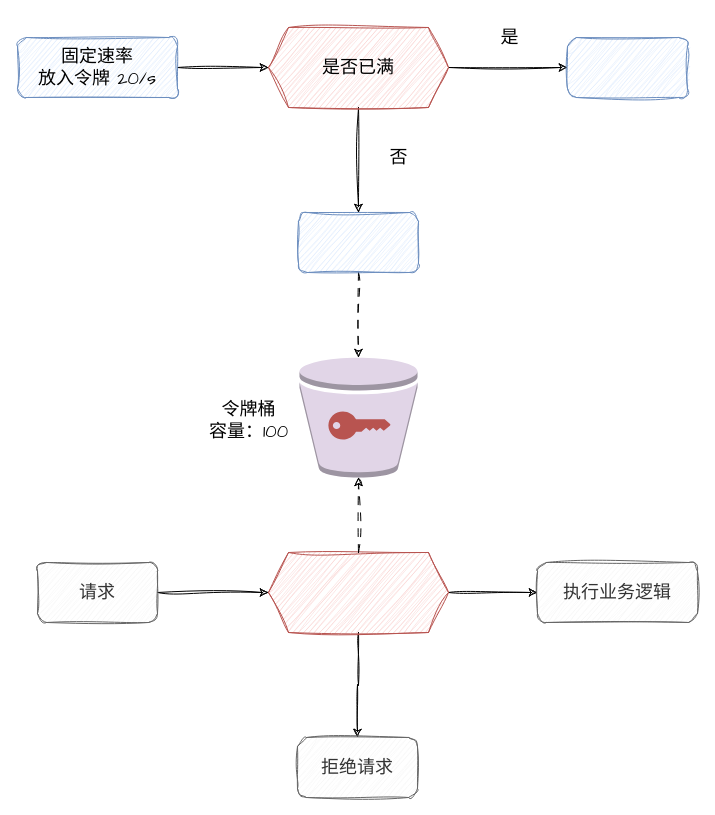
Image size: 715x815. Some labels were removed from this diagram. Here are the shapes that lost their labels. From the top down, the centre of each, then its label:
point 627,67: 丢弃令牌
point 358,242: 添加令牌
point 358,592: 成功获取令牌 令牌数 > 0
